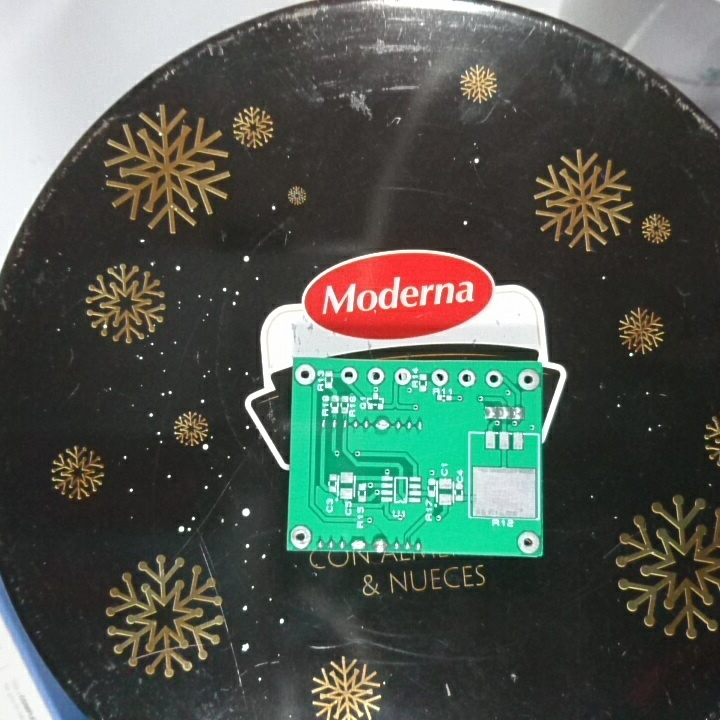F: (516, 529, 541, 555), (289, 523, 313, 550), (294, 363, 319, 388), (516, 366, 540, 391), (482, 367, 503, 392), (428, 366, 450, 389), (456, 366, 477, 389), (365, 366, 387, 387), (339, 364, 359, 386), (393, 366, 412, 386)
P: (372, 416, 391, 435), (348, 535, 368, 550), (370, 537, 389, 552)
